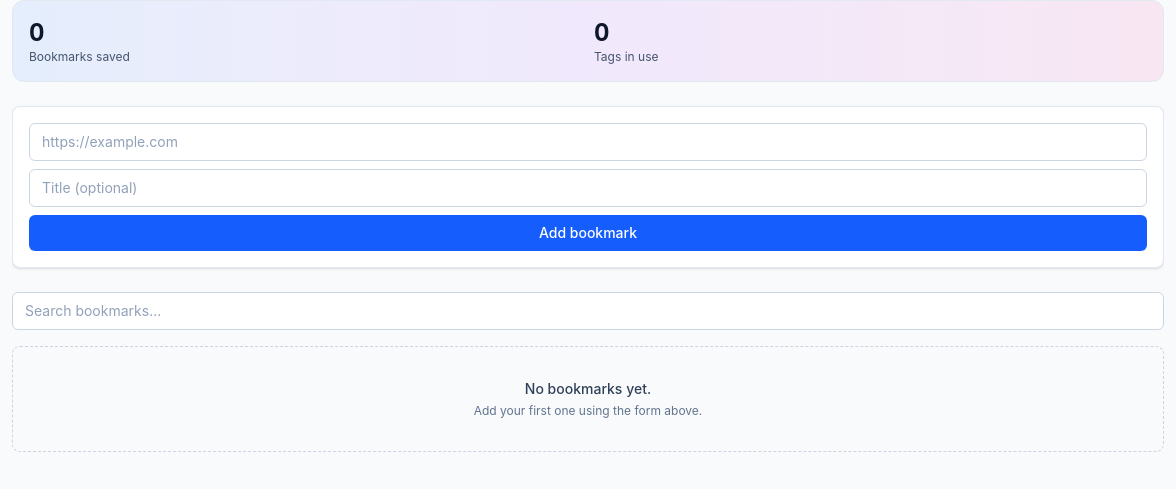
BookmarksList › surfaces backend validation issues under the matching field
Check: the text "No bookmarks yet." is shown, box top-left (525, 380), bottom-right (651, 397)
// A value that passes client-side validation but fails server-side.
Type "http://example.com" into the field with placeholder "https://example.com".
click(588, 142); type("http://example.com")  # box top-left (29, 123), bottom-right (1147, 161)
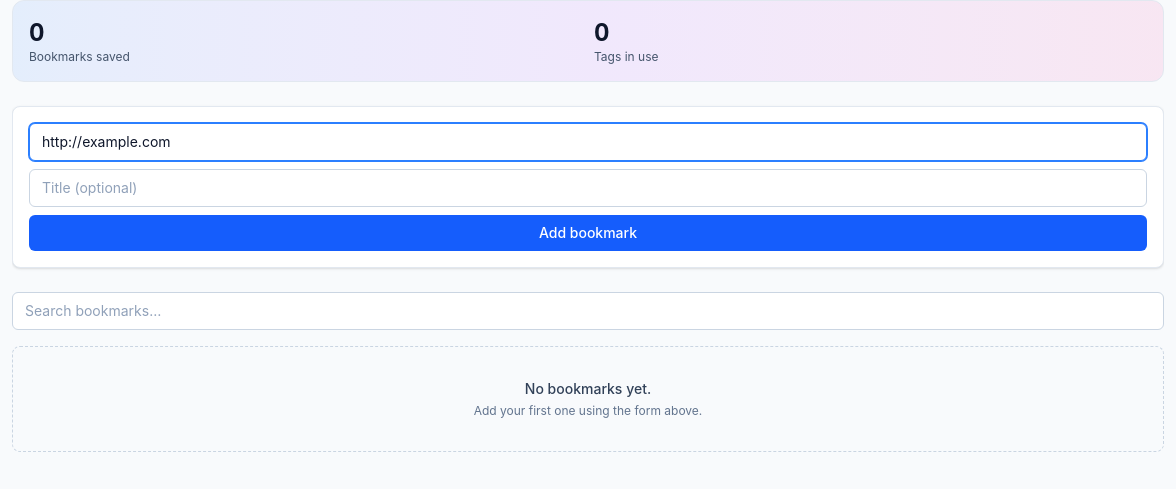
Click the button "Add bookmark".
click(588, 233)  # box top-left (29, 215), bottom-right (1147, 251)
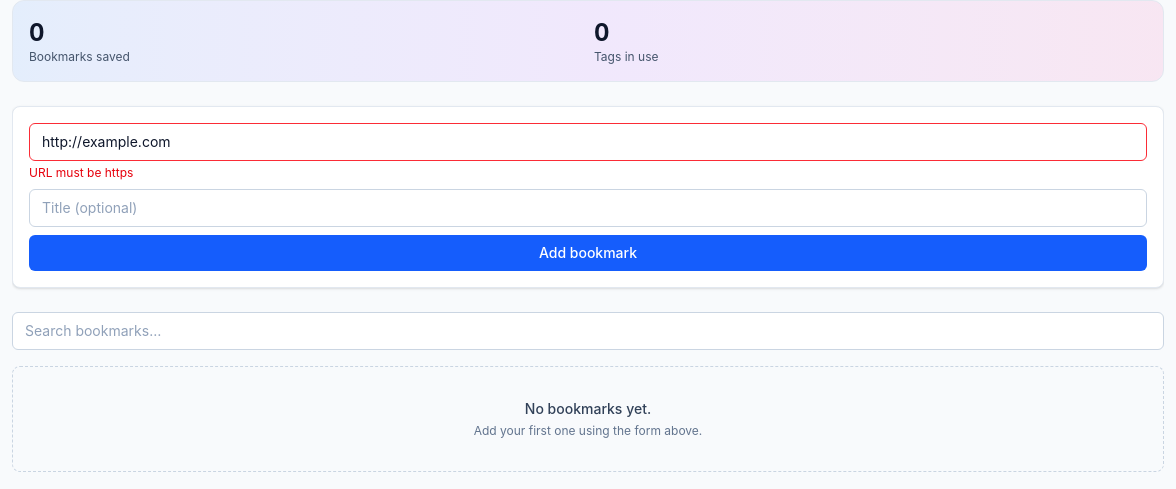
Check: the text "URL must be https" is shown, box top-left (29, 165), bottom-right (133, 180)
